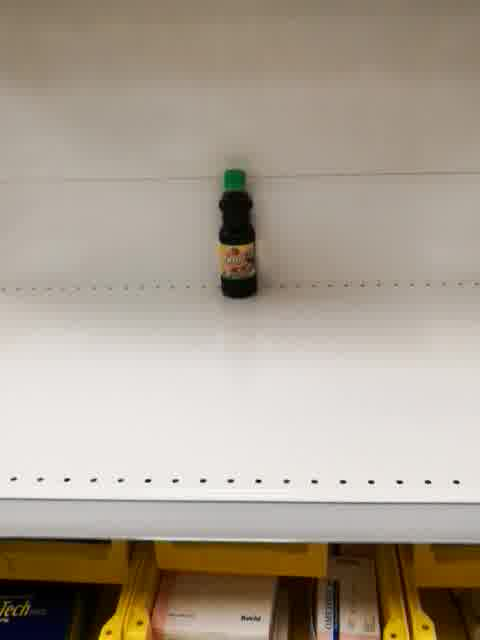cookingoil: (215, 166, 259, 300)
